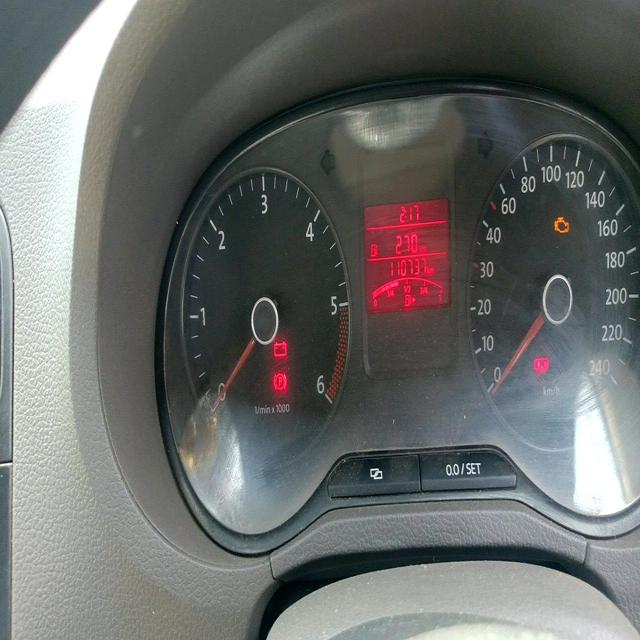odometer: (388, 255, 427, 280)
